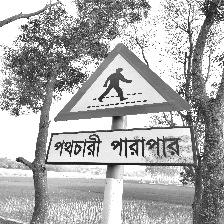Pedestrian-crossing: (47, 42, 195, 166)
